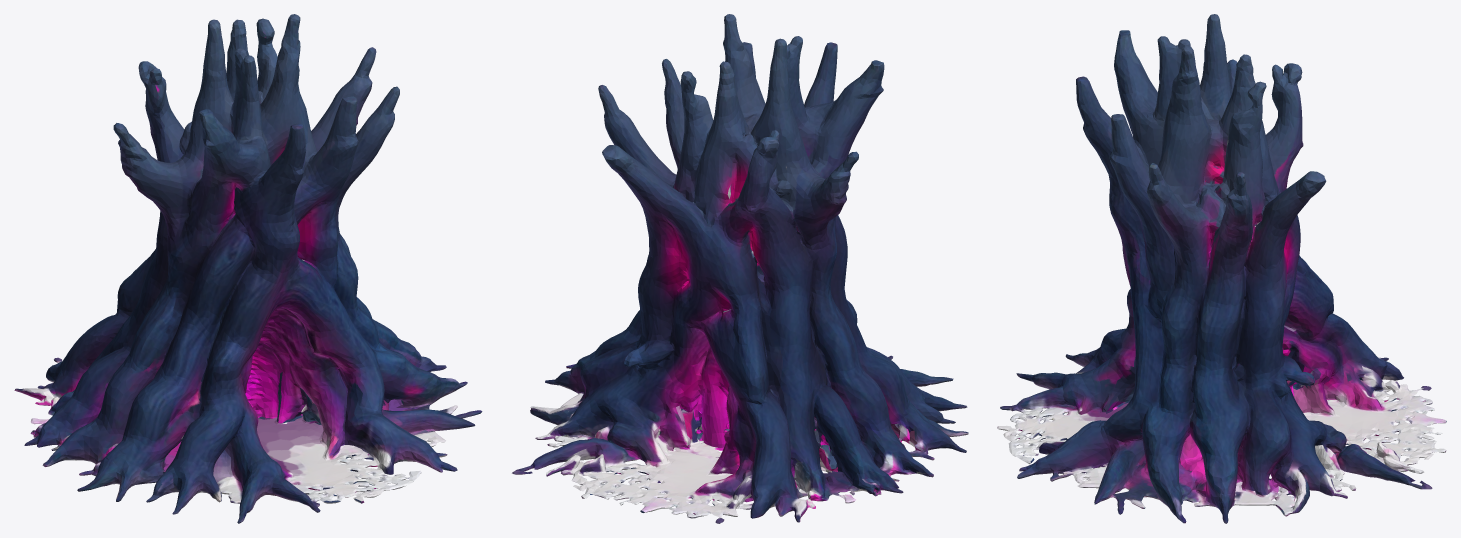
Rendered from root-south-generated-2026-04-19T17-02-12-977Z.glb.
3 views of the same model, side by side, from view 1: azimuth 30°, elevation 25°; view 2: azimuth 150°, elevation 25°; view 3: azimuth 270°, elevation 25° (orthographic). The views are drawn at different scales.
Visible parts, largest first — view 1: temp_mesh.ply; view 2: temp_mesh.ply; view 3: temp_mesh.ply.
Boxes of the visible parts, bbox=[...] form: temp_mesh.ply: bbox=[14, 14, 482, 523]; temp_mesh.ply: bbox=[512, 14, 968, 523]; temp_mesh.ply: bbox=[997, 14, 1446, 523].
Size of the model in its own units: 1.98 by 1.93 by 1.97.
1 material, 1 textured.
